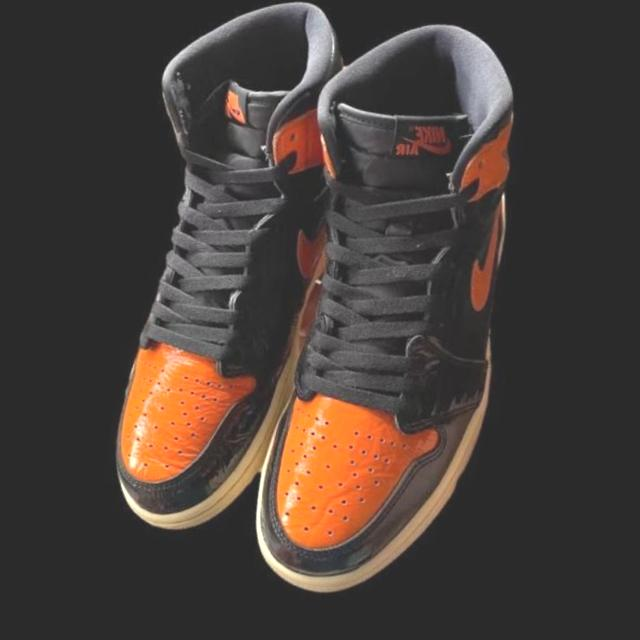nike_original_jordan: (100, 0, 640, 640), (0, 0, 471, 580)
